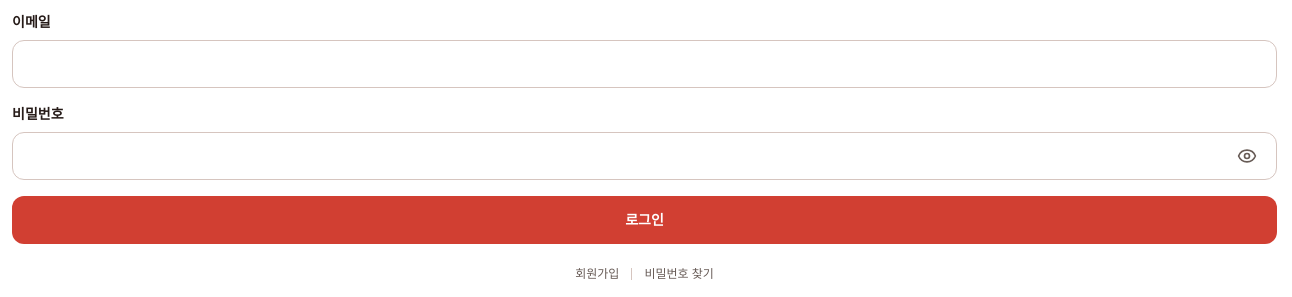
Scenario: email UI contracts › toggles login password visibility in ko without submitting
Type " a long password " into the password field labelled "비밀번호" at {"x": 644, "y": 156}, box x1=12 y1=132 x2=1277 y2=180
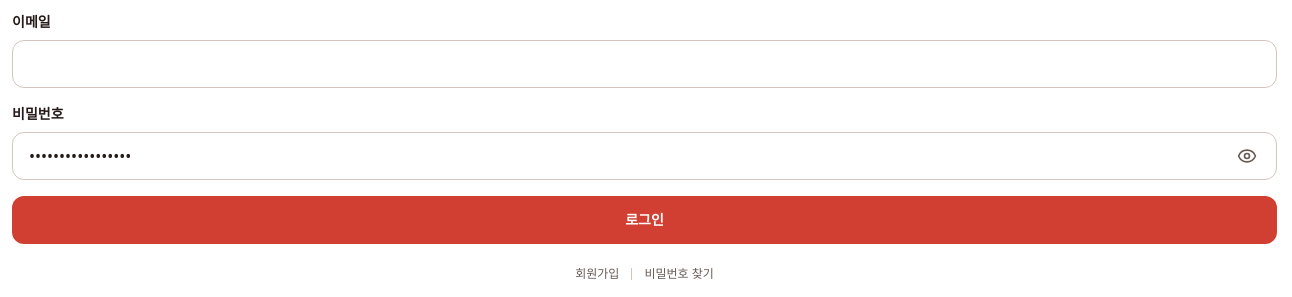
Click the button named "비밀번호 표시" at {"x": 1247, "y": 156}, box x1=1225 y1=134 x2=1269 y2=178
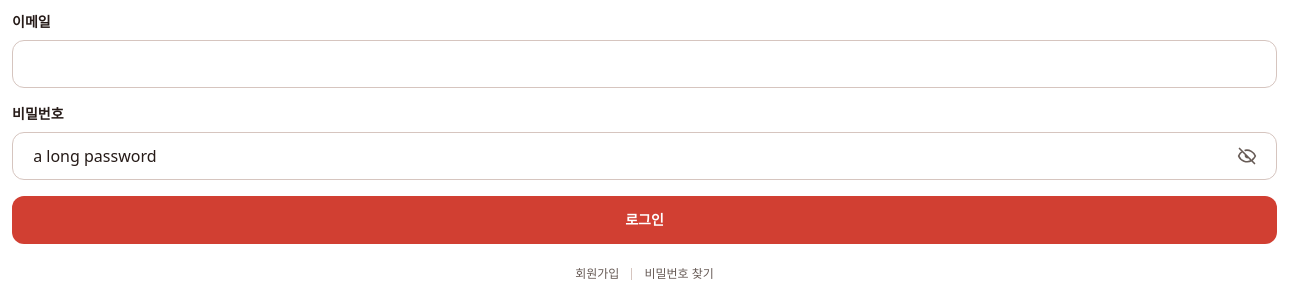
Check: the field labelled "비밀번호" shows its text, box x1=12 y1=132 x2=1277 y2=180
Click the button named "비밀번호 숨기기" at {"x": 1247, "y": 156}, box x1=1225 y1=134 x2=1269 y2=178
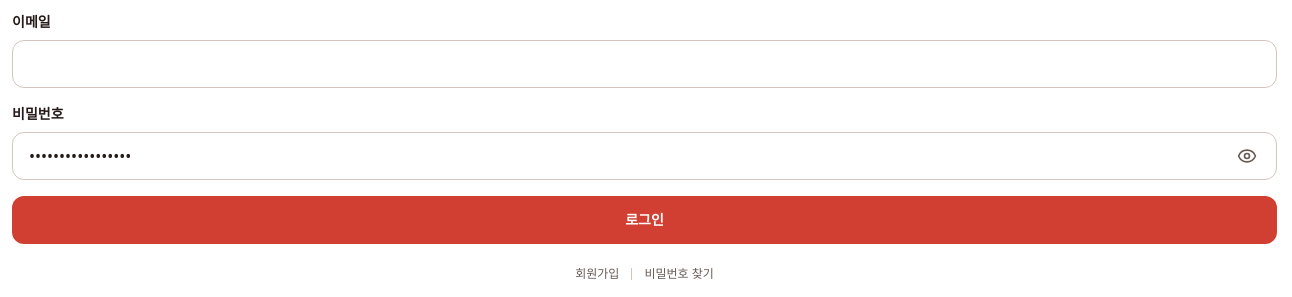
Check: the password field labelled "비밀번호" hides its text, box x1=12 y1=132 x2=1277 y2=180
